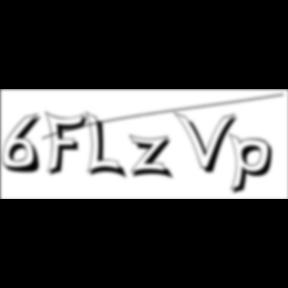6: (2, 112, 48, 176)
F: (45, 110, 93, 178)
L: (85, 110, 129, 182)
V: (174, 110, 242, 176)
p: (229, 132, 279, 198)
z: (128, 134, 178, 182)
